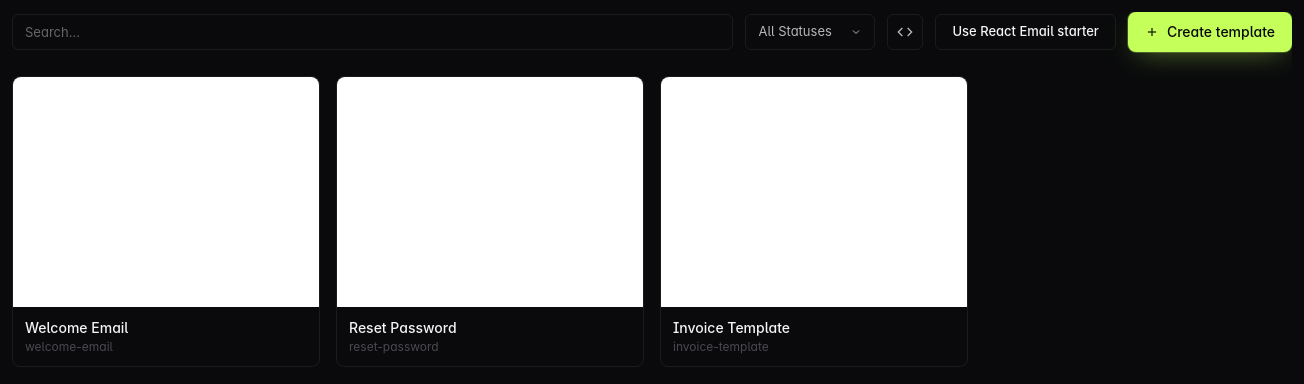
Test case: TemplatesList › shows status filter with All Statuses, Draft, Published options
This screenshot has width=1304, height=384.
Expected: the link "Welcome Email" is shown, [25,318,128,336]
Click the button "All Statuses" at coordinates (810, 32), box [745,14,875,50]
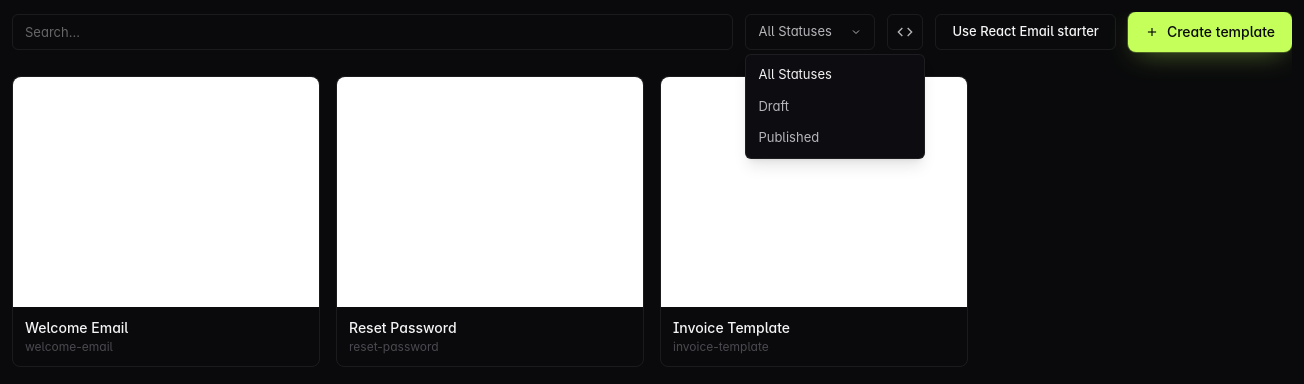
Expected: the menu item "All Statuses" is shown, [746,59,924,90]
Expected: the menu item "Draft" is shown, [746,90,924,122]
Expected: the menu item "Published" is shown, [746,122,924,154]
